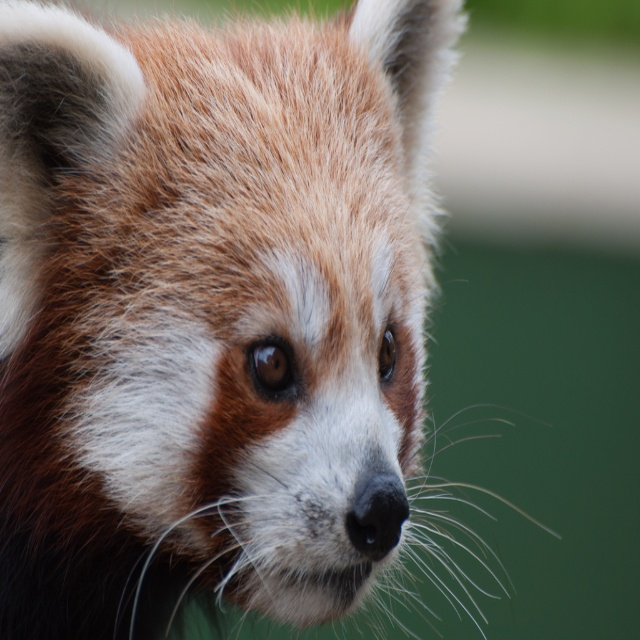Red panda: (0, 0, 560, 639), (0, 0, 558, 639)
